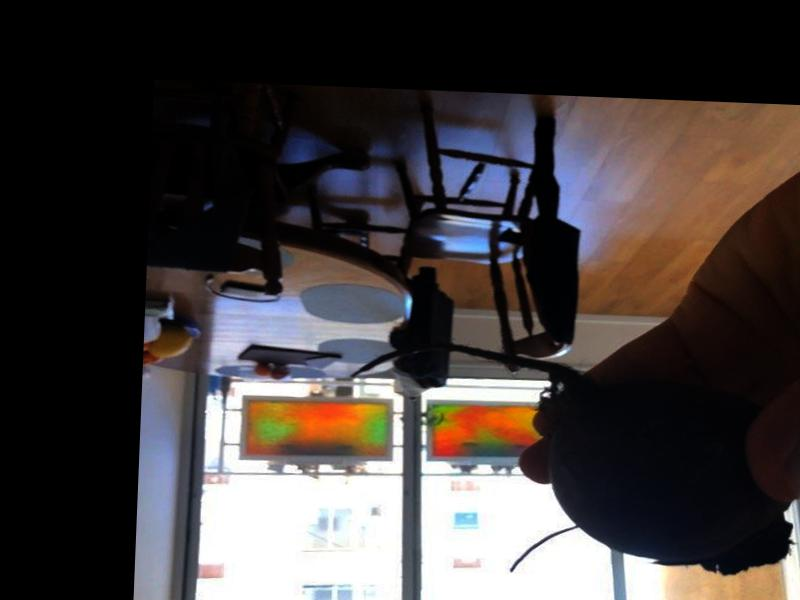Beet: (343, 340, 798, 579)
